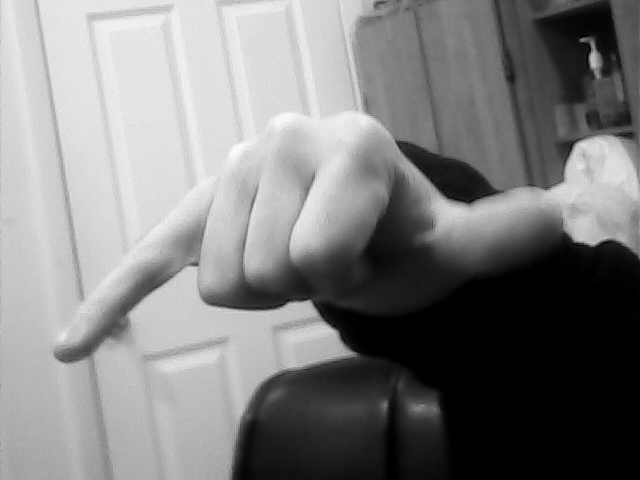aloha: (44, 100, 570, 374)
